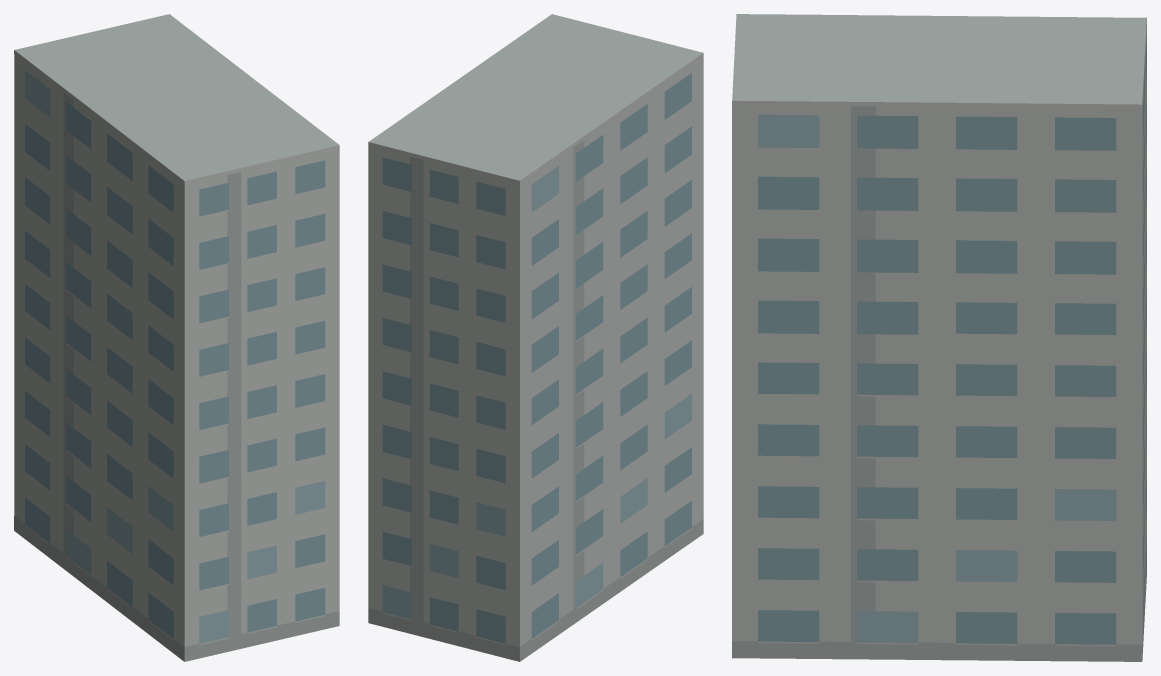
File: residential-85ac8196-9fa7-45ce-ad0d-484d296e353c.glb
3 renders of one model, left to right at view 1: azimuth 30°, elevation 25°; view 2: azimuth 150°, elevation 25°; view 3: azimuth 270°, elevation 25°, orthographic. The views are drawn at different scales.
Visible parts, largest first — view 1: residential-85ac8196-9fa7-45ce-ad0d-484d296e353c.tmp; view 2: residential-85ac8196-9fa7-45ce-ad0d-484d296e353c.tmp; view 3: residential-85ac8196-9fa7-45ce-ad0d-484d296e353c.tmp.
Boxes of the visible parts, x1,y1,x2,y2 form: residential-85ac8196-9fa7-45ce-ad0d-484d296e353c.tmp: [14, 14, 339, 661]; residential-85ac8196-9fa7-45ce-ad0d-484d296e353c.tmp: [368, 14, 703, 661]; residential-85ac8196-9fa7-45ce-ad0d-484d296e353c.tmp: [732, 14, 1146, 661].
Bounding box in the file's own units: 10.45 × 30 × 20.24.
